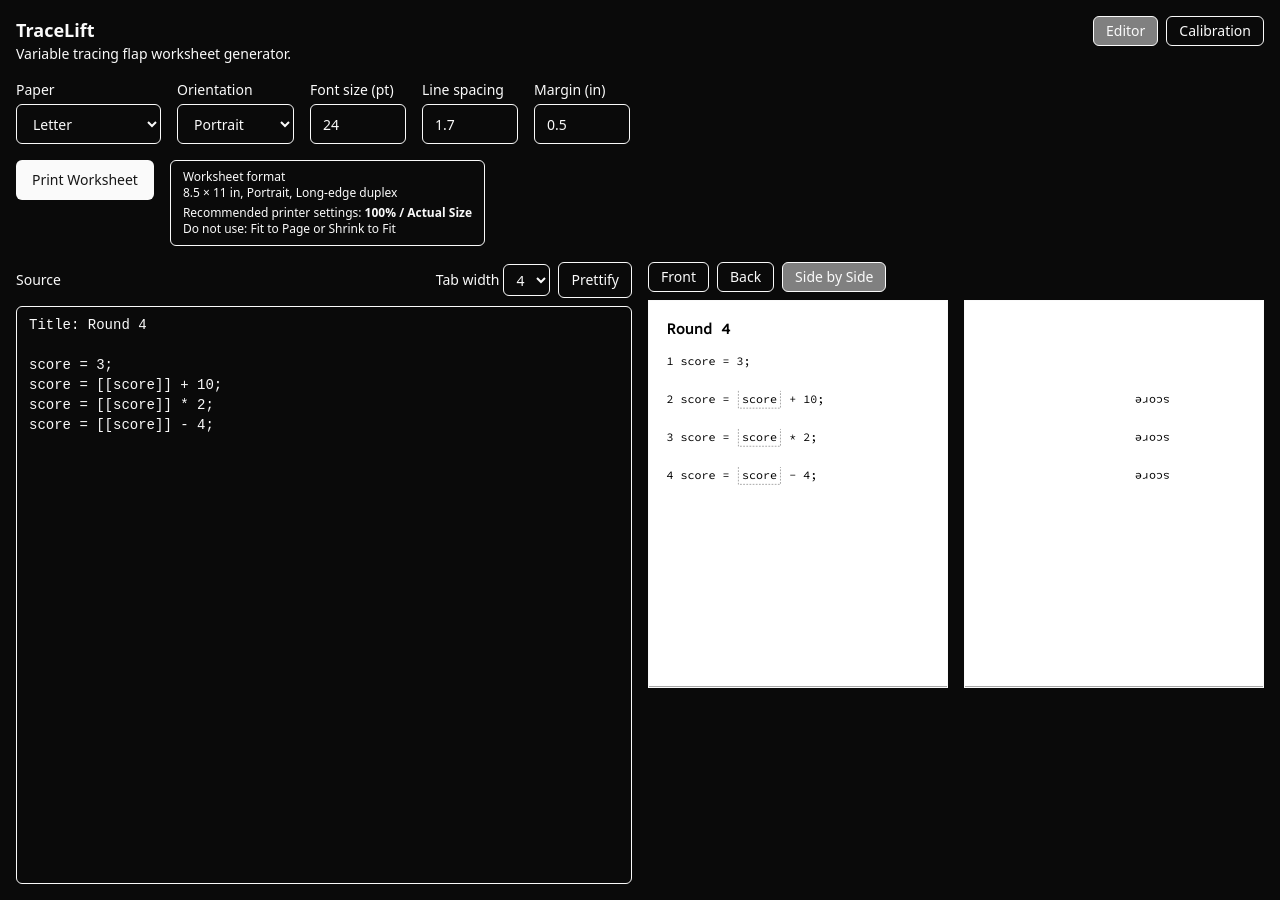
Test case: App › warns on the calibration page when the font size is too large for a right-aligned sample flap to fit
Replace the text in the number field labelled "Font size (pt)" with "72". click: (358, 124)
box: [310,104,406,144]
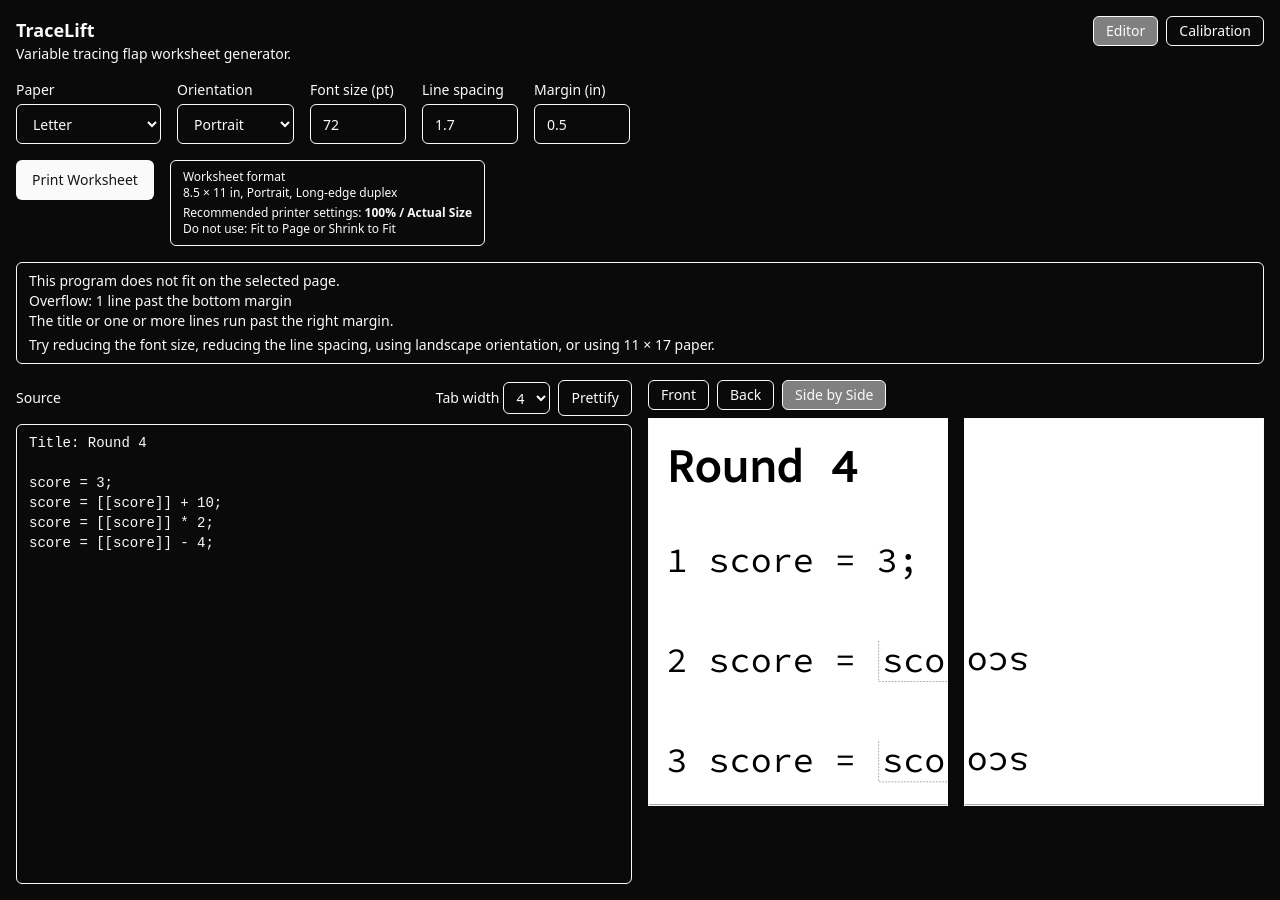
Click the button "calibration". click: click(1215, 31)
box: [1166,16,1264,46]
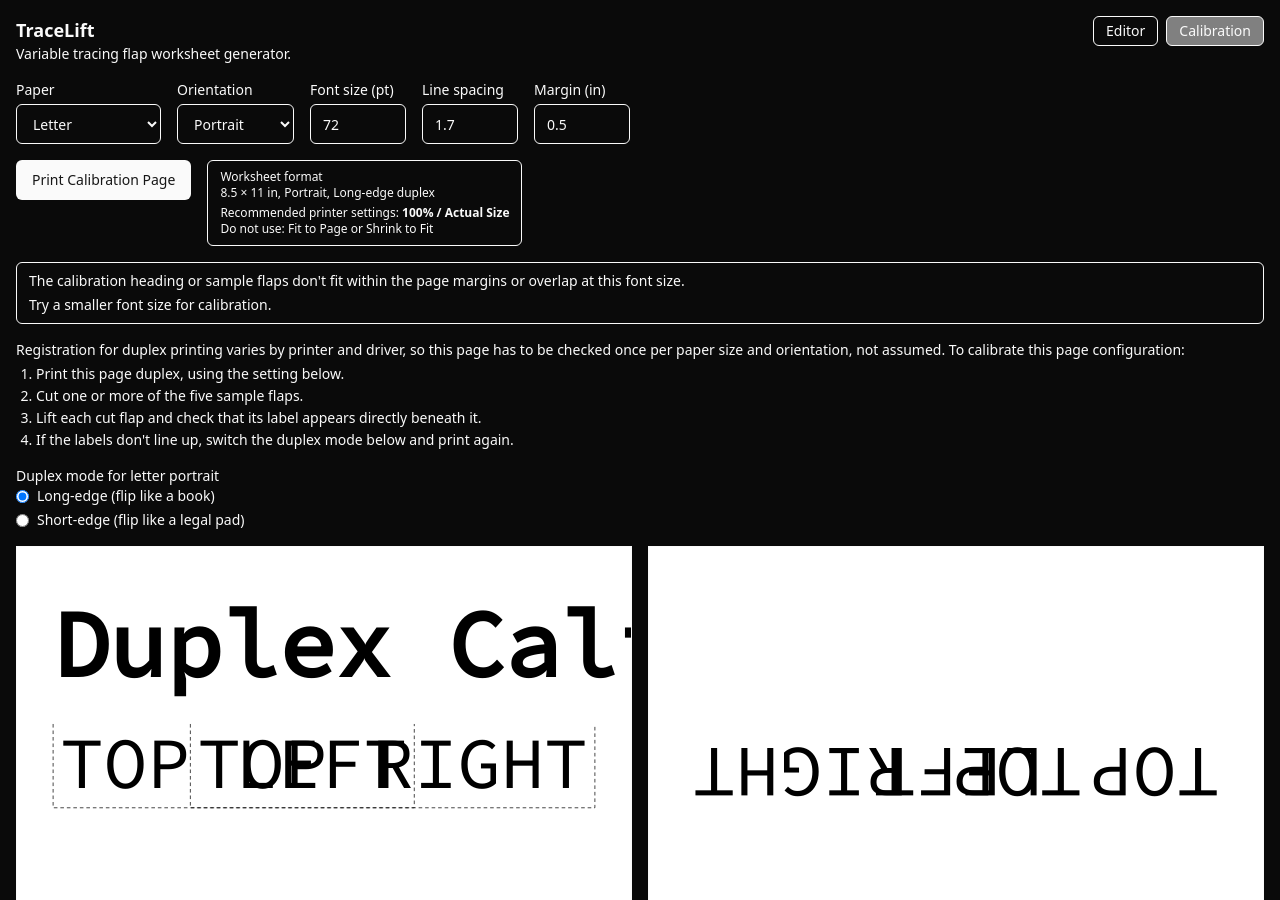
Now the message shows "don't fit within the page margins", box [29,271,685,290]
